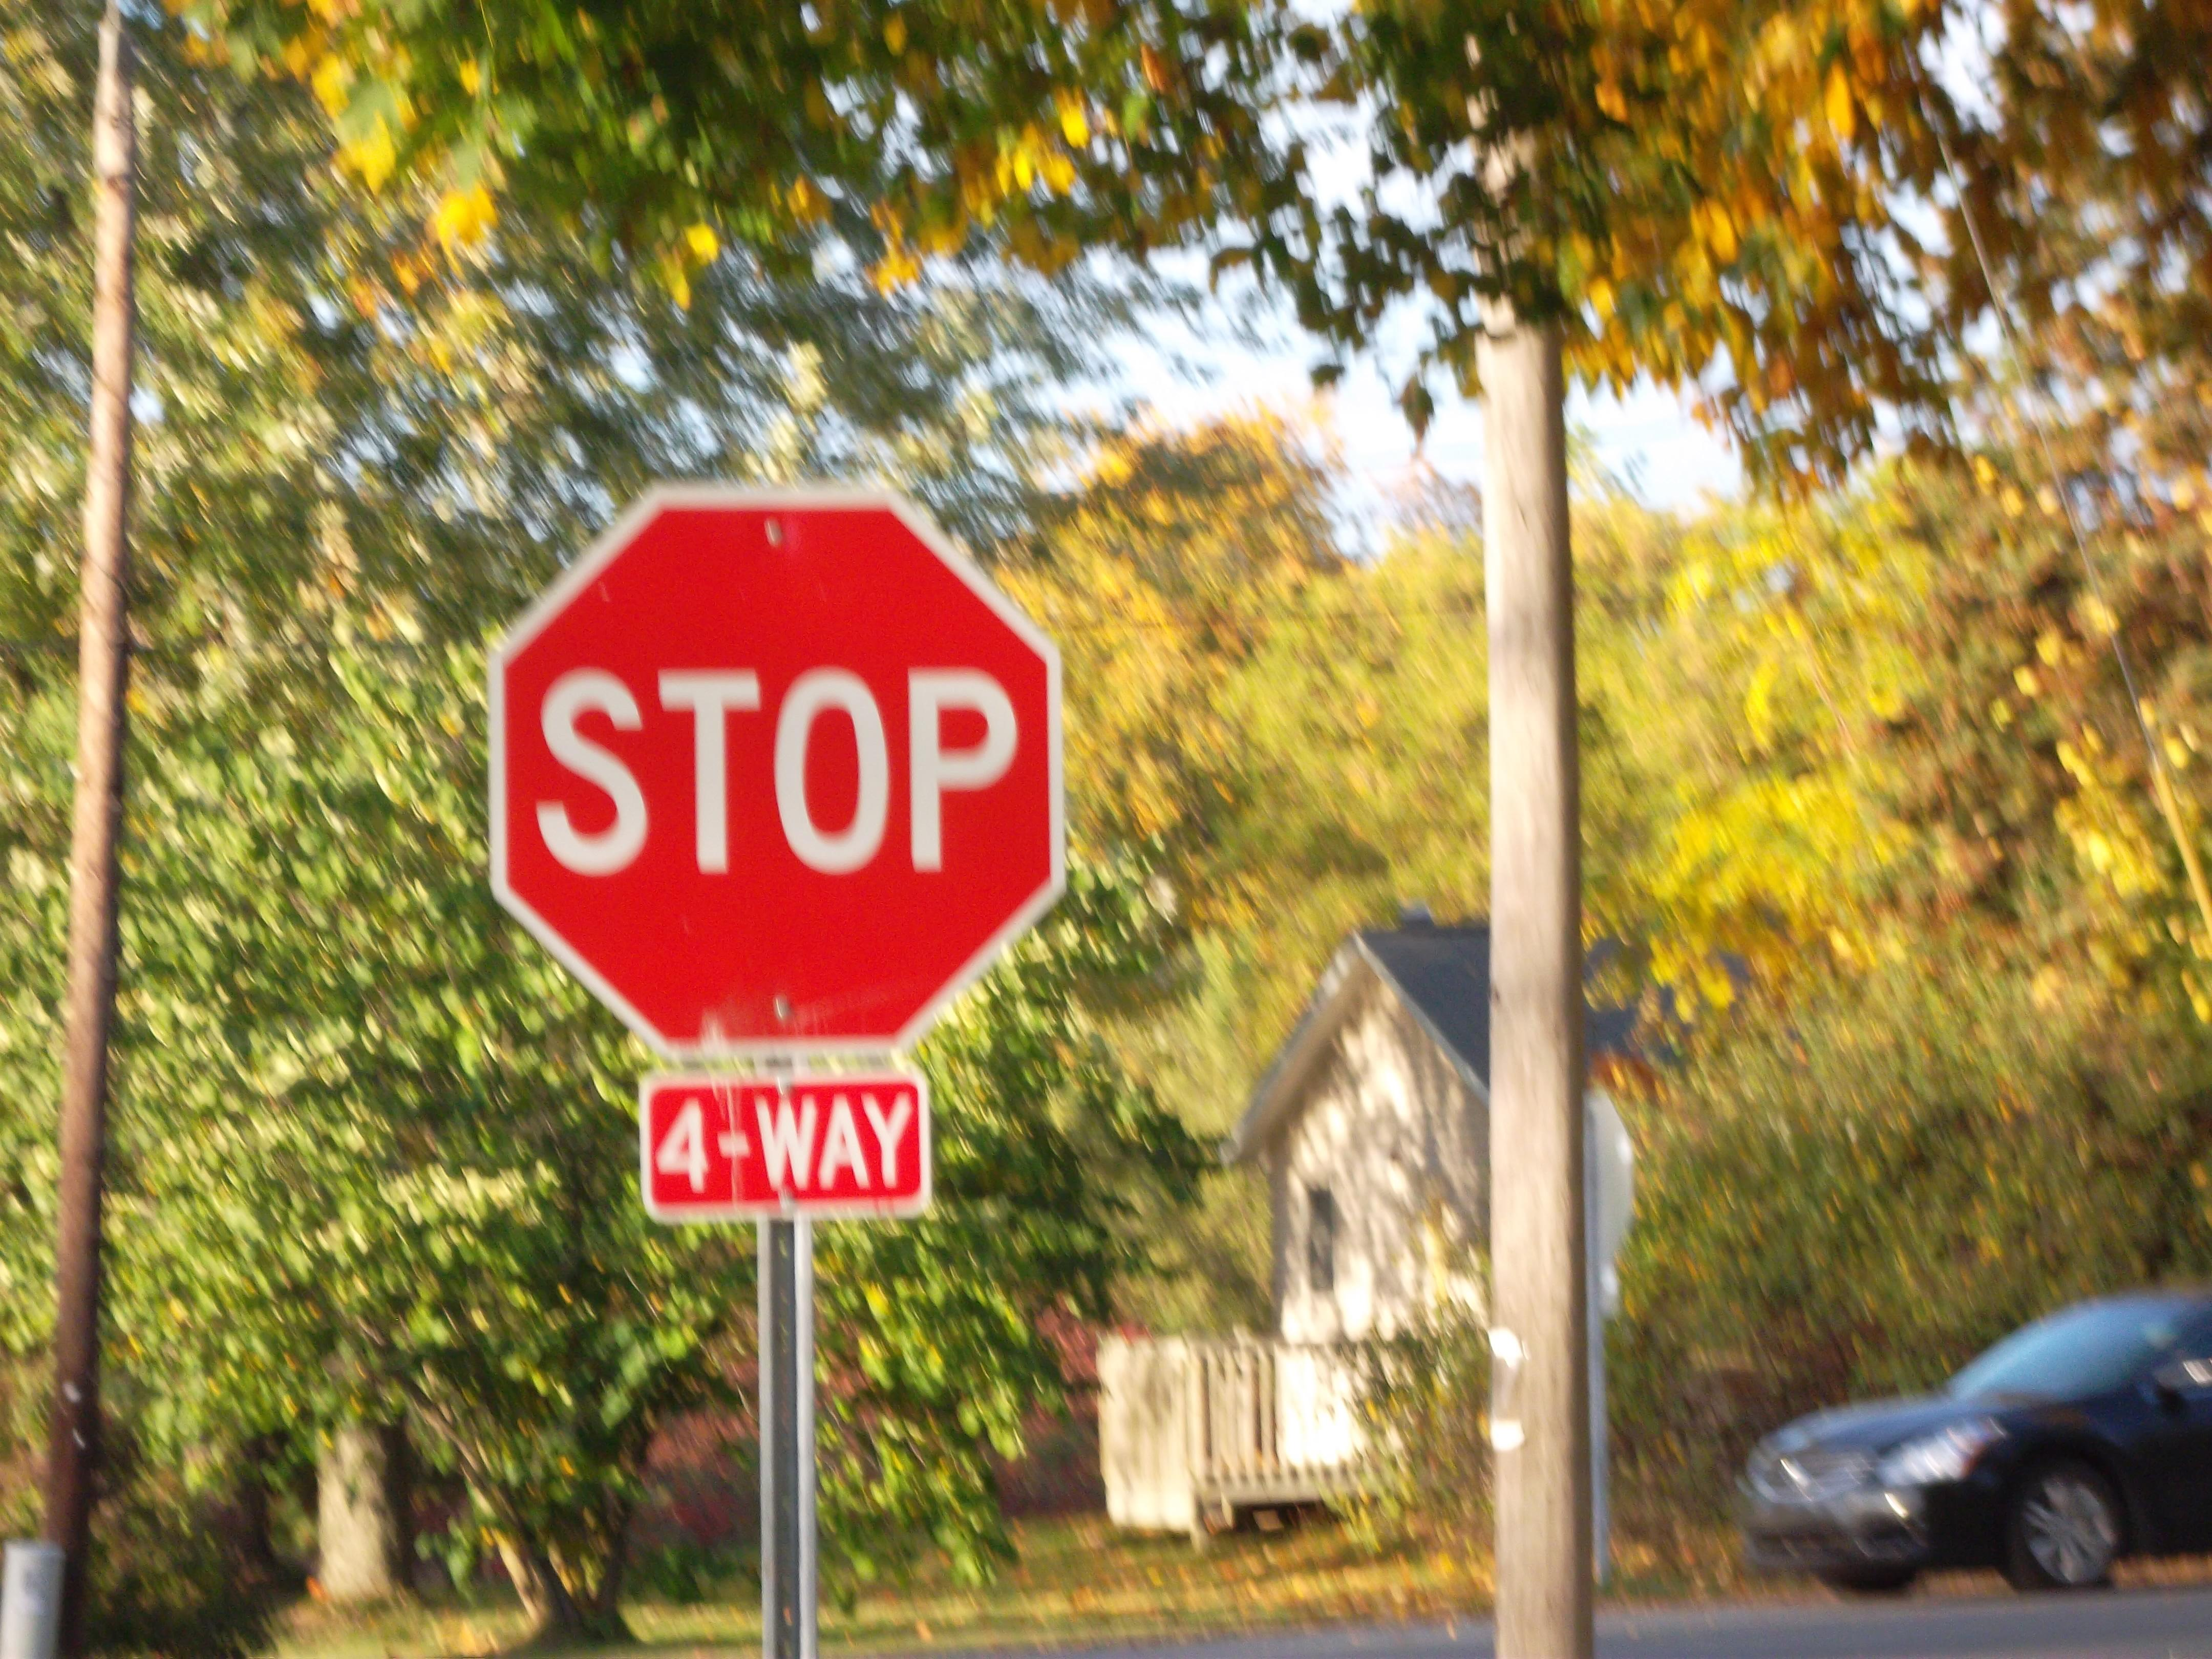stop: (475, 462, 1082, 1060)
